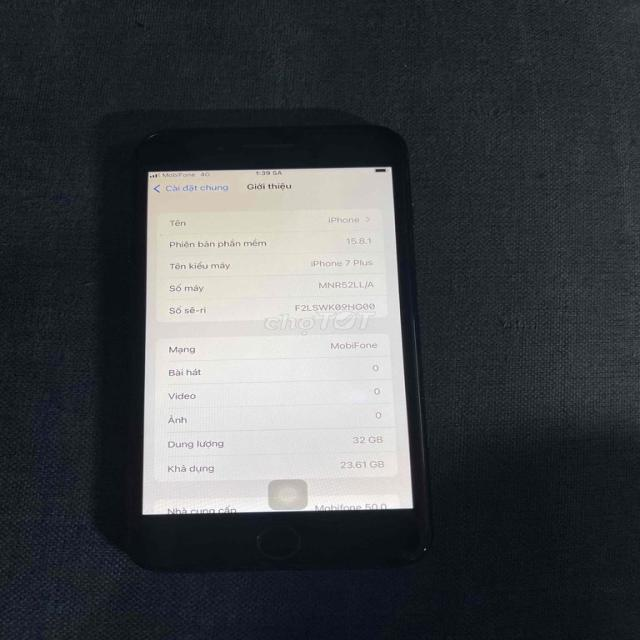gen_7_8: (110, 123, 434, 566)
